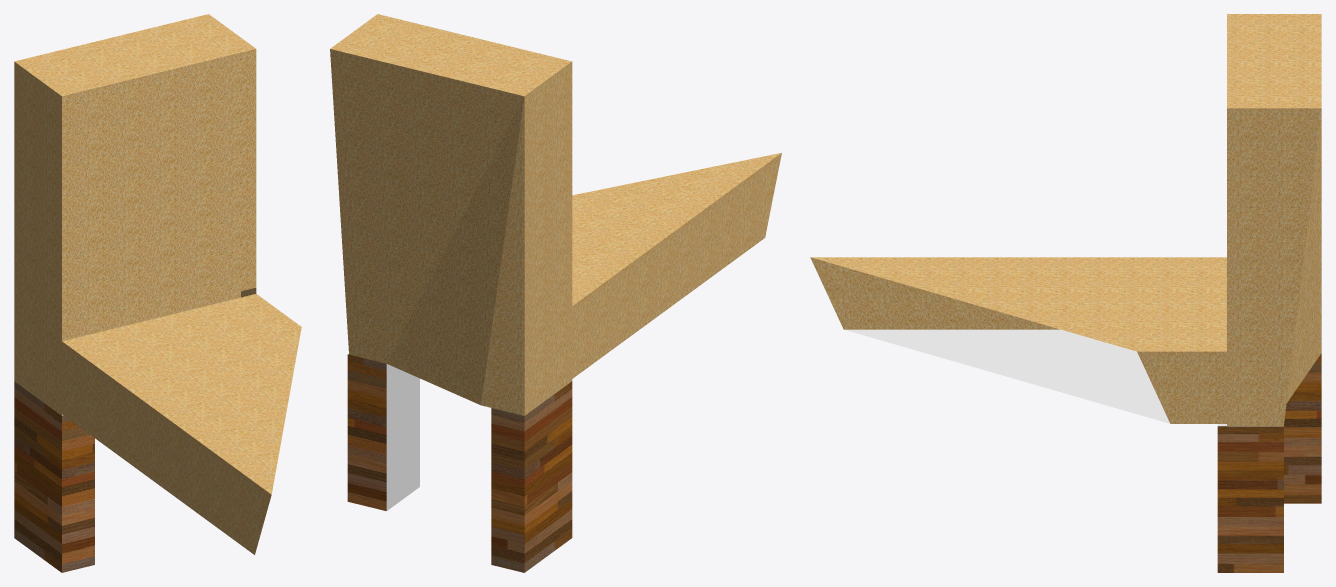
The model's file is chair_half2.fbx.
3 renders of one model, left to right at view 1: azimuth 30°, elevation 25°; view 2: azimuth 150°, elevation 25°; view 3: azimuth 270°, elevation 25°, orthographic.
Visible parts, largest first — view 1: polySurface38; view 2: polySurface38; view 3: polySurface38.
Part boxes in pixels (x1,y1,x2,y2): polySurface38: (14, 14, 301, 572); polySurface38: (330, 14, 781, 572); polySurface38: (810, 14, 1321, 572).
Bounding box in the file's own units: 65.35 × 152 × 149.
